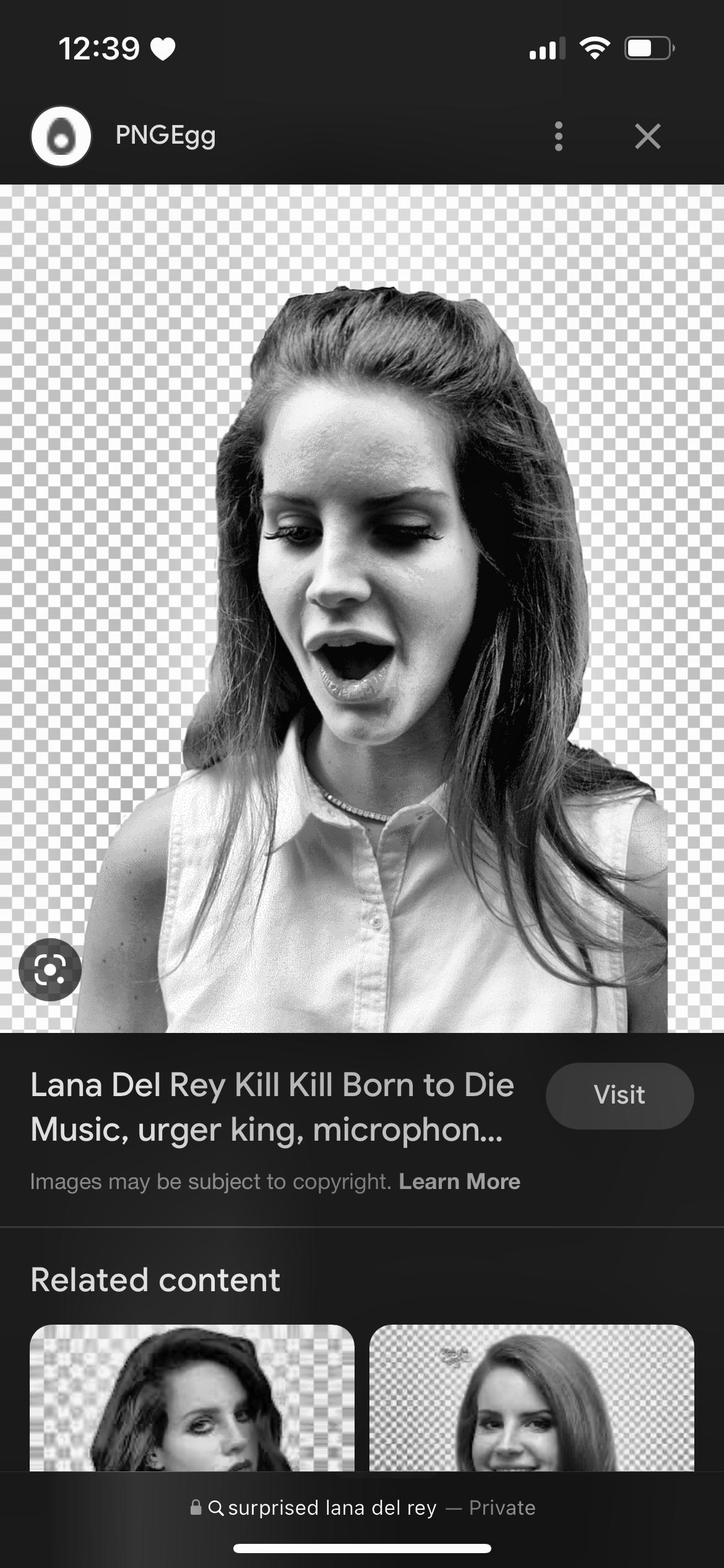surprised: (258, 394, 483, 734)
